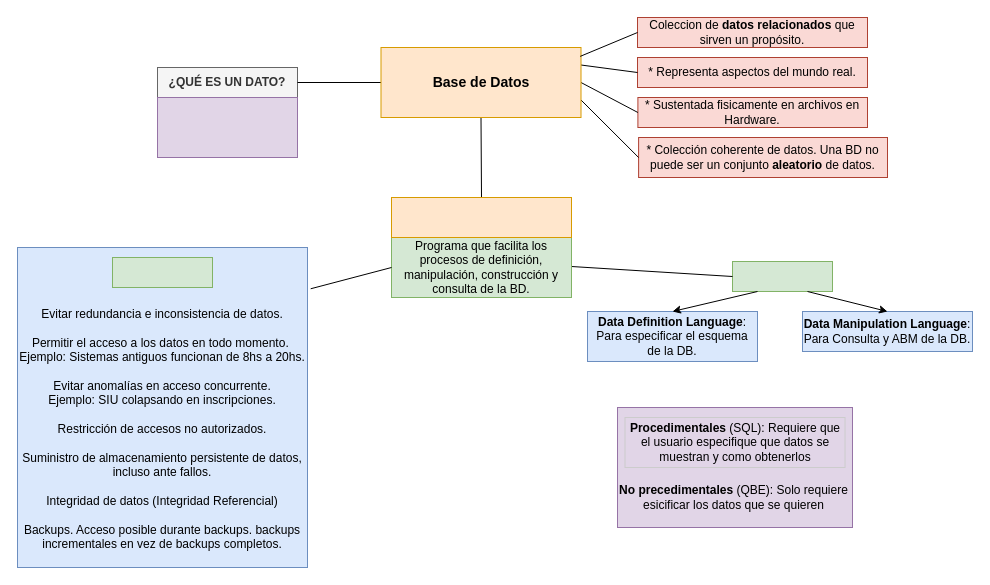
This 990x585 diagram has some shape labels left out. The shapes that lost their labels are listed below. From the top down, each one's centre as x and y in pixels, then its label:
(x=227, y=127): Hechos conocidos que pueden registrarse y tienen un valor implícito .
(x=481, y=217): DBMS (Data Base Managament System)
(x=162, y=272): OBJETIVOS
(x=782, y=276): COMPONENTES
